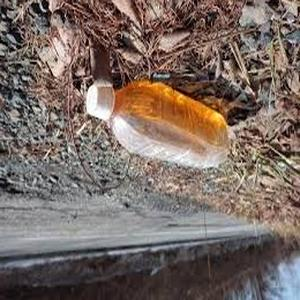Plastic: (81, 76, 232, 174)
